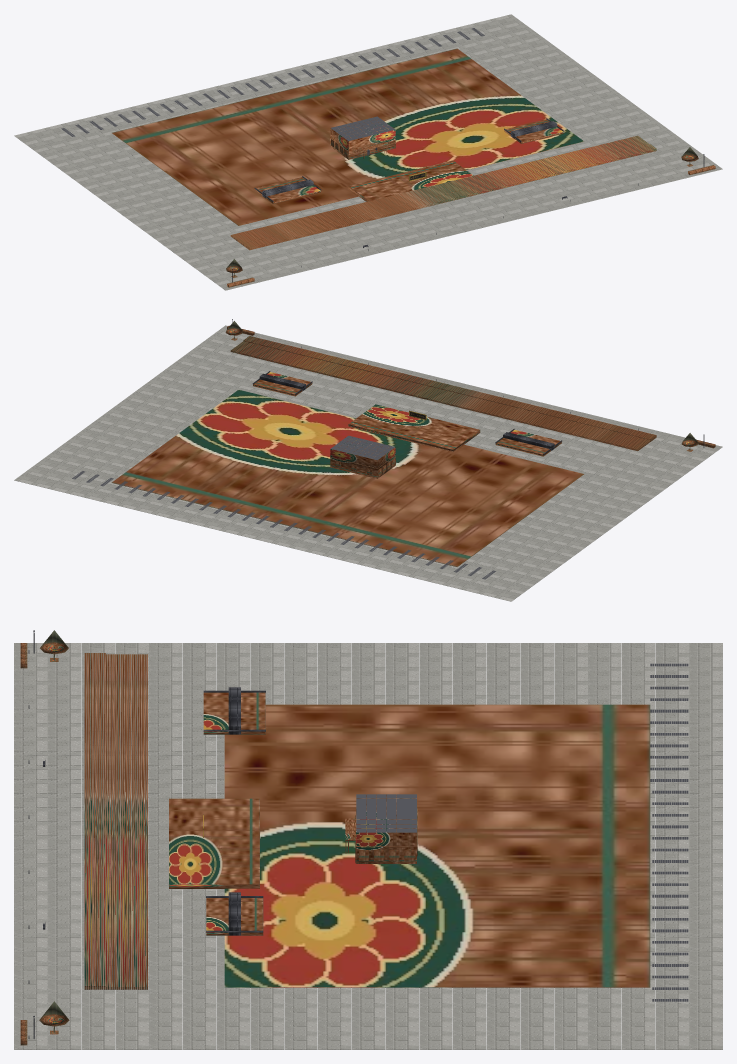
The picture shows the model from 3 angles, top to bottom: view 1: azimuth 30°, elevation 25°; view 2: azimuth 150°, elevation 25°; view 3: azimuth 270°, elevation 25°; orthographic projection. The views are drawn at different scales.
Parts seen in each view (by area): view 1: 11710_01_05549_004_01__plinth_ground_base, 11710_01_05549_004_02__mass_body_facade, 11710_01_05549_004_03__roof_deck_structure, 11710_01_05549_004_03__roof_metal_ornament, 11710_01_05549_004_06__landscape_greenery; view 2: 11710_01_05549_004_02__mass_body_facade, 11710_01_05549_004_01__plinth_ground_base, 11710_01_05549_004_03__roof_deck_structure, 11710_01_05549_004_03__roof_metal_ornament, 11710_01_05549_004_06__landscape_greenery; view 3: 11710_01_05549_004_01__plinth_ground_base, 11710_01_05549_004_02__mass_body_facade, 11710_01_05549_004_03__roof_deck_structure, 11710_01_05549_004_03__roof_metal_ornament, 11710_01_05549_004_06__landscape_greenery.
Part boxes in pixels (x1,y1,x2,y2): 11710_01_05549_004_01__plinth_ground_base: (14, 14, 722, 290); 11710_01_05549_004_02__mass_body_facade: (112, 48, 656, 250); 11710_01_05549_004_03__roof_deck_structure: (61, 28, 484, 140); 11710_01_05549_004_03__roof_metal_ornament: (254, 118, 564, 201); 11710_01_05549_004_06__landscape_greenery: (226, 147, 715, 287); 11710_01_05549_004_02__mass_body_facade: (111, 336, 656, 566); 11710_01_05549_004_01__plinth_ground_base: (14, 325, 722, 601); 11710_01_05549_004_03__roof_deck_structure: (72, 435, 495, 579); 11710_01_05549_004_03__roof_metal_ornament: (252, 371, 562, 454); 11710_01_05549_004_06__landscape_greenery: (225, 321, 715, 451); 11710_01_05549_004_01__plinth_ground_base: (14, 643, 722, 1049); 11710_01_05549_004_02__mass_body_facade: (84, 653, 650, 989); 11710_01_05549_004_03__roof_deck_structure: (356, 663, 688, 1001); 11710_01_05549_004_03__roof_metal_ornament: (203, 687, 265, 935); 11710_01_05549_004_06__landscape_greenery: (20, 630, 69, 1045).
Bounding box in the file's own units: 190 × 9 × 140.
Materials: 7 (7 with a texture image).
